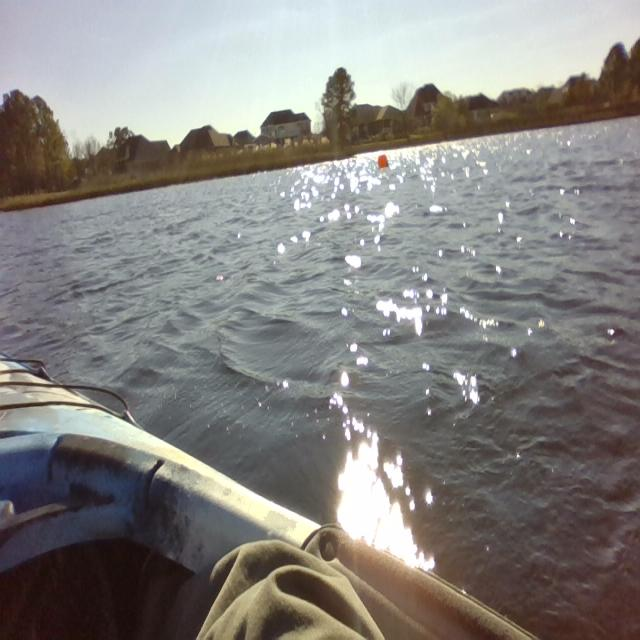Buoy: (374, 150, 395, 179)
